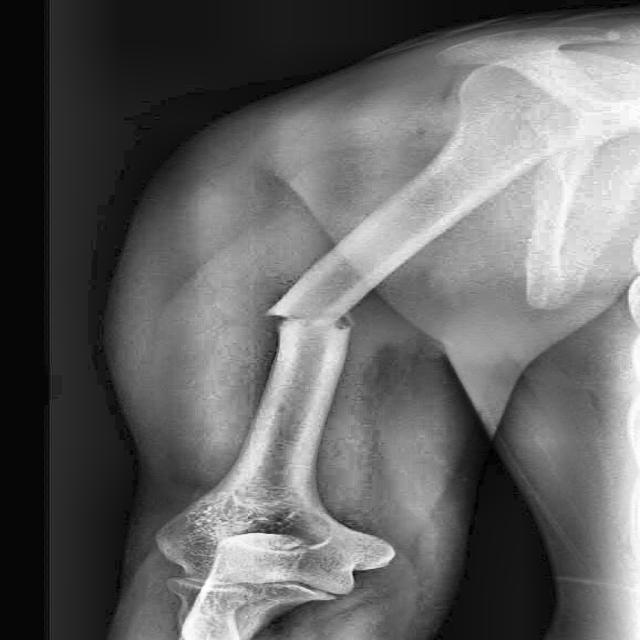messed_up_angle: (259, 310, 352, 333)
